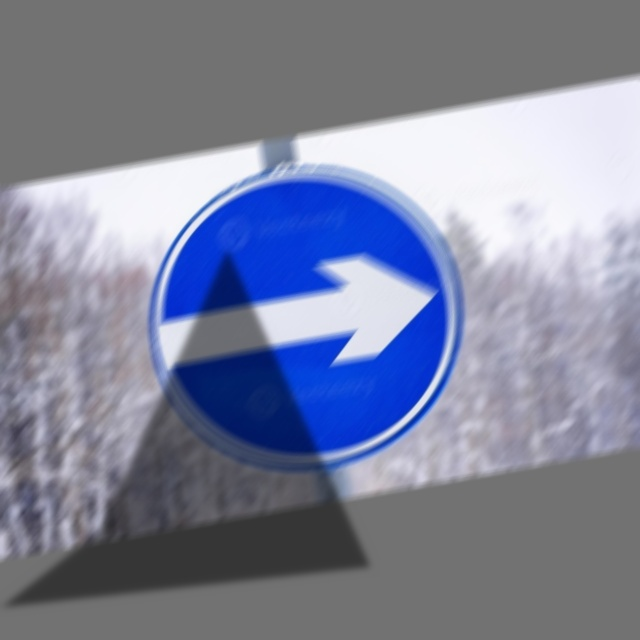Compulsory_Turn_Right: (126, 140, 486, 489)
